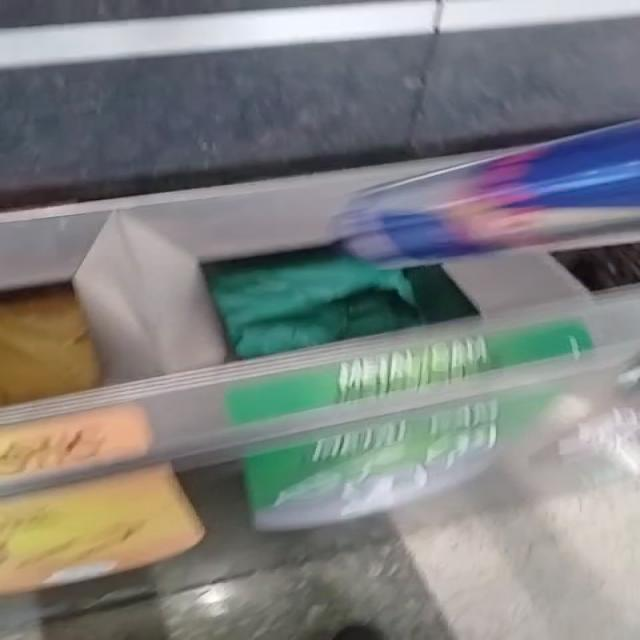bin: (0, 126, 640, 532)
metal: (336, 121, 640, 266)
